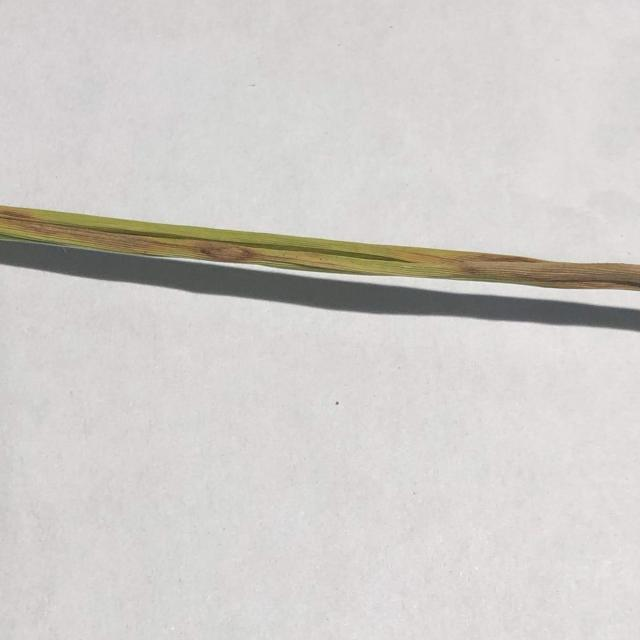Blast: (204, 242, 253, 262)
